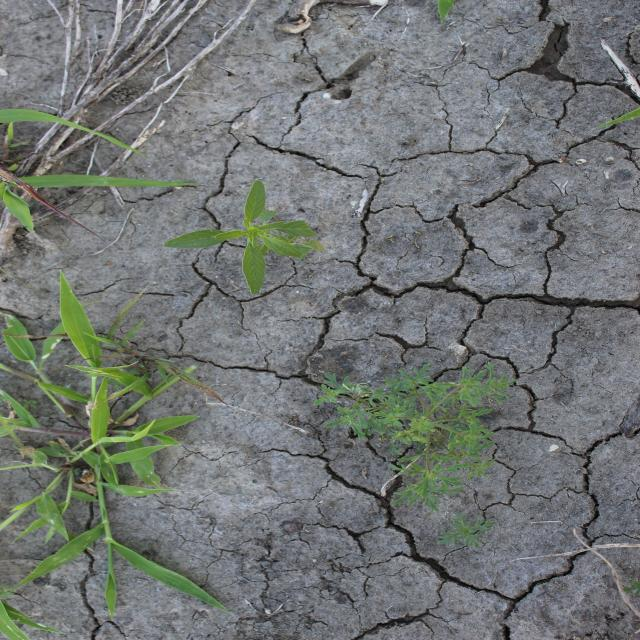Ragweed: (310, 361, 519, 513), (436, 511, 498, 549)
Waterhemp: (162, 179, 327, 296)
